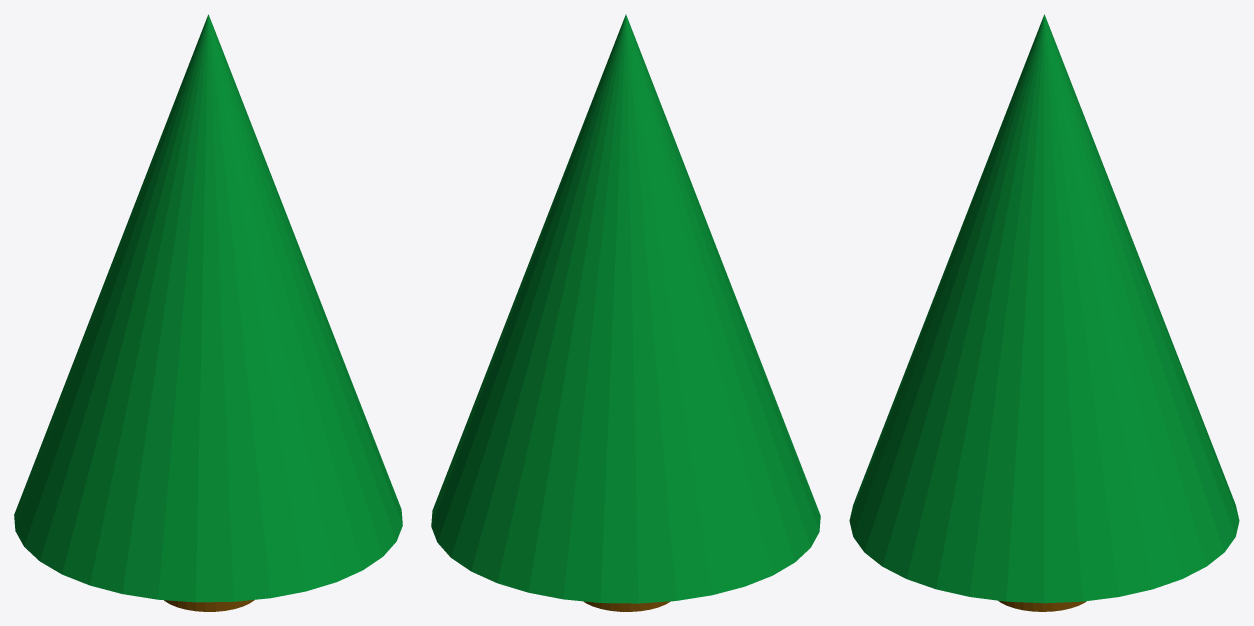
File: TestBaum.dae
3 views of the same model, side by side, from view 1: azimuth 30°, elevation 25°; view 2: azimuth 150°, elevation 25°; view 3: azimuth 270°, elevation 25° (orthographic).
Parts seen in each view (by area): view 1: Cone, Cylinder; view 2: Cone, Cylinder; view 3: Cone, Cylinder.
Part boxes in pixels (bbox=[...]): Cone: bbox=[14, 14, 402, 602]; Cylinder: bbox=[164, 600, 254, 611]; Cone: bbox=[431, 14, 820, 603]; Cylinder: bbox=[583, 601, 670, 611]; Cone: bbox=[849, 14, 1239, 603]; Cylinder: bbox=[998, 600, 1086, 611].
Size of the model in its own units: 2.82 by 2.82 by 4.61.
